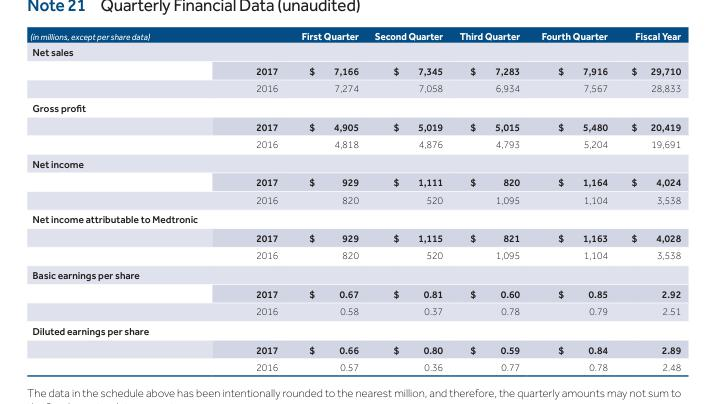table: (29, 29, 680, 373)
table column: (29, 29, 202, 373), (529, 29, 618, 373), (202, 29, 289, 373), (365, 29, 450, 373), (450, 29, 529, 373), (289, 29, 365, 373), (618, 29, 680, 373)
table column header: (29, 29, 680, 43)
table projected row header: (29, 97, 680, 116), (29, 153, 680, 172), (29, 209, 680, 228), (29, 320, 680, 339), (29, 265, 680, 283), (29, 43, 680, 60)
table row: (29, 60, 680, 80), (29, 116, 680, 136), (29, 283, 680, 303), (29, 339, 680, 359), (29, 97, 680, 116), (29, 153, 680, 172), (29, 172, 680, 191), (29, 209, 680, 228), (29, 228, 680, 247), (29, 320, 680, 339), (29, 191, 680, 209), (29, 247, 680, 265), (29, 265, 680, 283), (29, 43, 680, 60), (29, 80, 680, 97), (29, 136, 680, 153), (29, 303, 680, 320), (29, 29, 680, 43), (29, 359, 680, 373)
